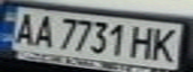1: (106, 20, 130, 57)
3: (90, 19, 112, 55)
7: (54, 15, 78, 51), (72, 17, 93, 53)
A: (9, 10, 39, 46), (30, 12, 57, 48)
H: (127, 22, 160, 61)
K: (148, 25, 181, 62)
